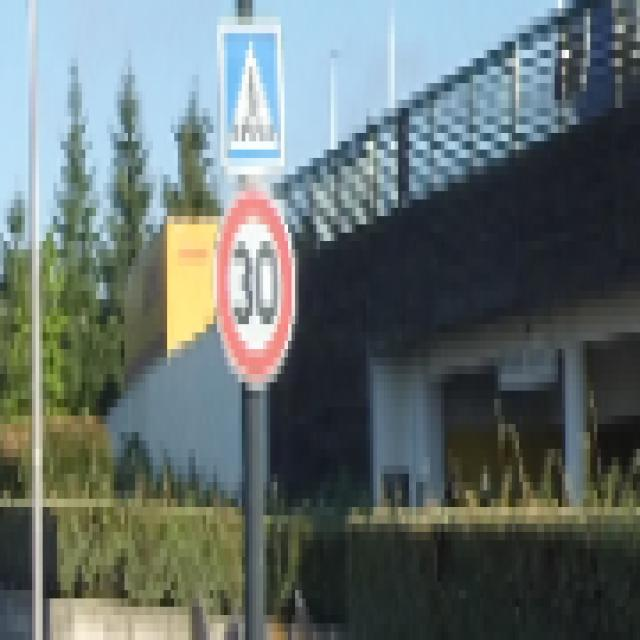speed_30: (214, 186, 298, 391)
